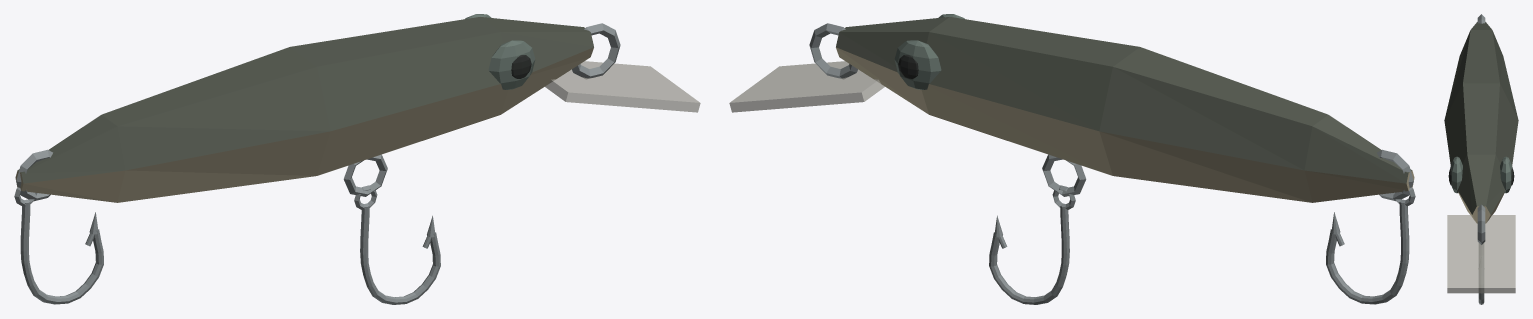
The model's file is bait-lv2.glb.
The picture shows the model from 3 angles, left to right: view 1: azimuth 30°, elevation 25°; view 2: azimuth 150°, elevation 25°; view 3: azimuth 270°, elevation 25°; orthographic projection. The views are drawn at different scales.
Parts seen in each view (by area): view 1: Faceted_Minnow_Body, Diving_Lip, Hook_Shank_And_Bend (×2), Eye_Right, Nose_Line_Eye, Belly_Split_Ring, Tail_Split_Ring; view 2: Faceted_Minnow_Body, Diving_Lip, Hook_Shank_And_Bend (×2), Eye_Left, Nose_Line_Eye, Belly_Split_Ring, Tail_Split_Ring; view 3: Faceted_Minnow_Body, Diving_Lip, Eye_Left, Eye_Right, Nose_Line_Eye, Hook_Shank_And_Bend, Tail_Split_Ring.
Boxes of the visible parts, x1,y1,x2,y2 form: Faceted_Minnow_Body: (15,17,593,202); Diving_Lip: (545,61,700,112); Hook_Shank_And_Bend (×2): (20,202,440,304); Eye_Right: (488,40,535,89); Nose_Line_Eye: (572,23,620,78); Belly_Split_Ring: (343,154,387,196); Tail_Split_Ring: (16,149,52,201); Faceted_Minnow_Body: (836,17,1414,202); Diving_Lip: (729,61,884,112); Hook_Shank_And_Bend (×2): (989,202,1409,304); Eye_Left: (894,40,941,89); Nose_Line_Eye: (809,23,857,78); Belly_Split_Ring: (1042,154,1086,196); Tail_Split_Ring: (1377,149,1413,201); Faceted_Minnow_Body: (1444,22,1518,223); Diving_Lip: (1447,215,1515,293); Eye_Left: (1500,156,1512,193); Eye_Right: (1450,156,1462,193); Nose_Line_Eye: (1477,204,1485,244); Hook_Shank_And_Bend: (1478,243,1484,304); Tail_Split_Ring: (1477,14,1485,23).
Size of the model in its own units: 2 by 0.786 by 0.2849.
